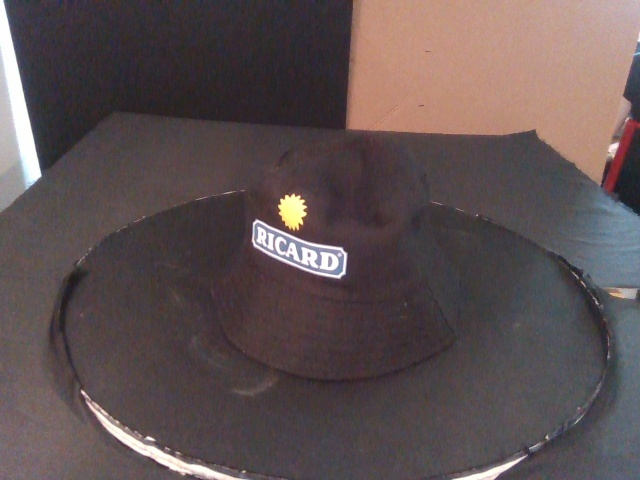hat: (208, 134, 460, 380)
